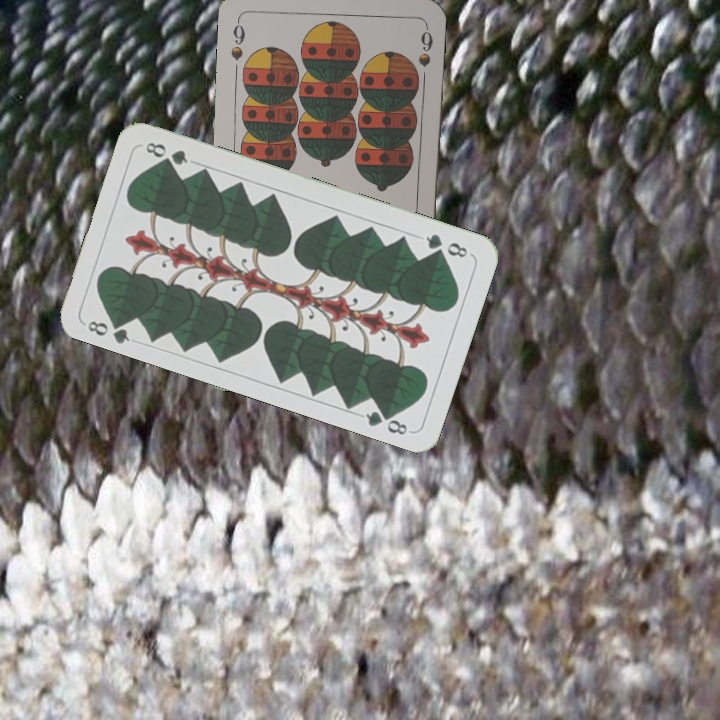G8: (83, 313, 133, 346), (421, 229, 470, 261)
S9: (226, 16, 248, 63)
